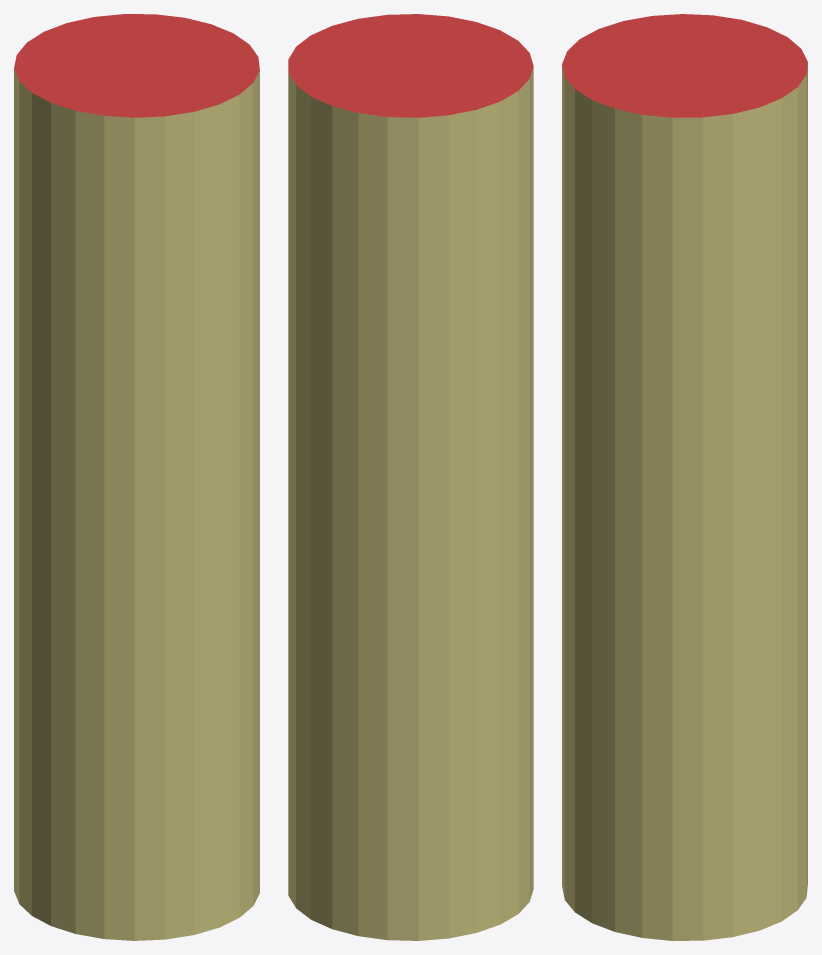
The picture shows the model from 3 angles, left to right: view 1: azimuth 30°, elevation 25°; view 2: azimuth 150°, elevation 25°; view 3: azimuth 270°, elevation 25°; orthographic projection.
Size of the model in its own units: 2.86 by 2.86 by 10.56.
